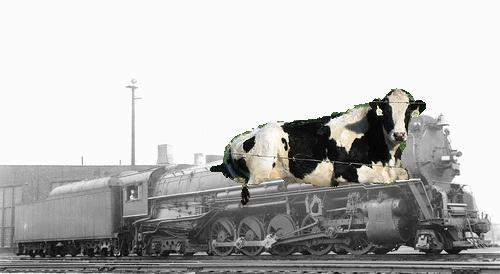tampered: (211, 89, 426, 205)
